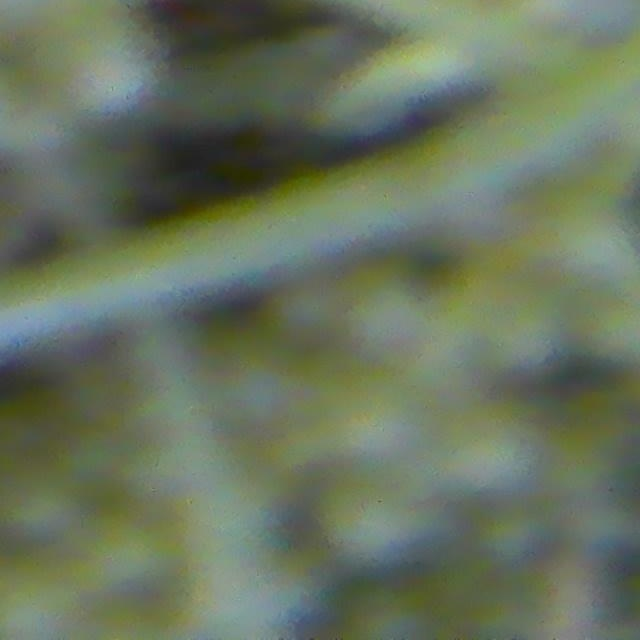SeaGrape: (35, 8, 154, 118), (446, 408, 545, 502), (84, 511, 182, 603), (322, 483, 416, 571)
